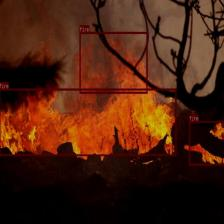fire: (0, 88, 176, 155), (80, 32, 148, 93), (188, 120, 224, 165)
